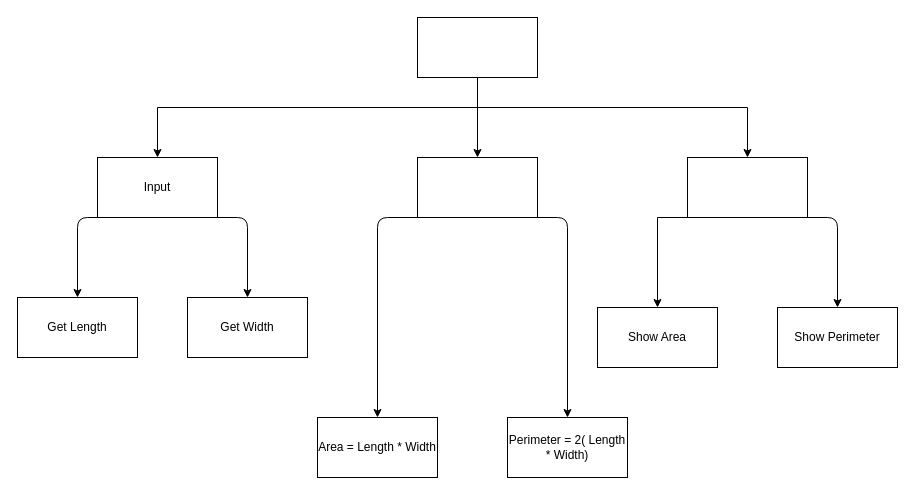
Some shapes in this 915 by 495 pixel diagram are drawn without their labels. Each missing label, with the box of its shape:
Output: (686, 156, 808, 218)
Perimeter and Area Program: (416, 16, 538, 78)
Process: (416, 156, 538, 218)
